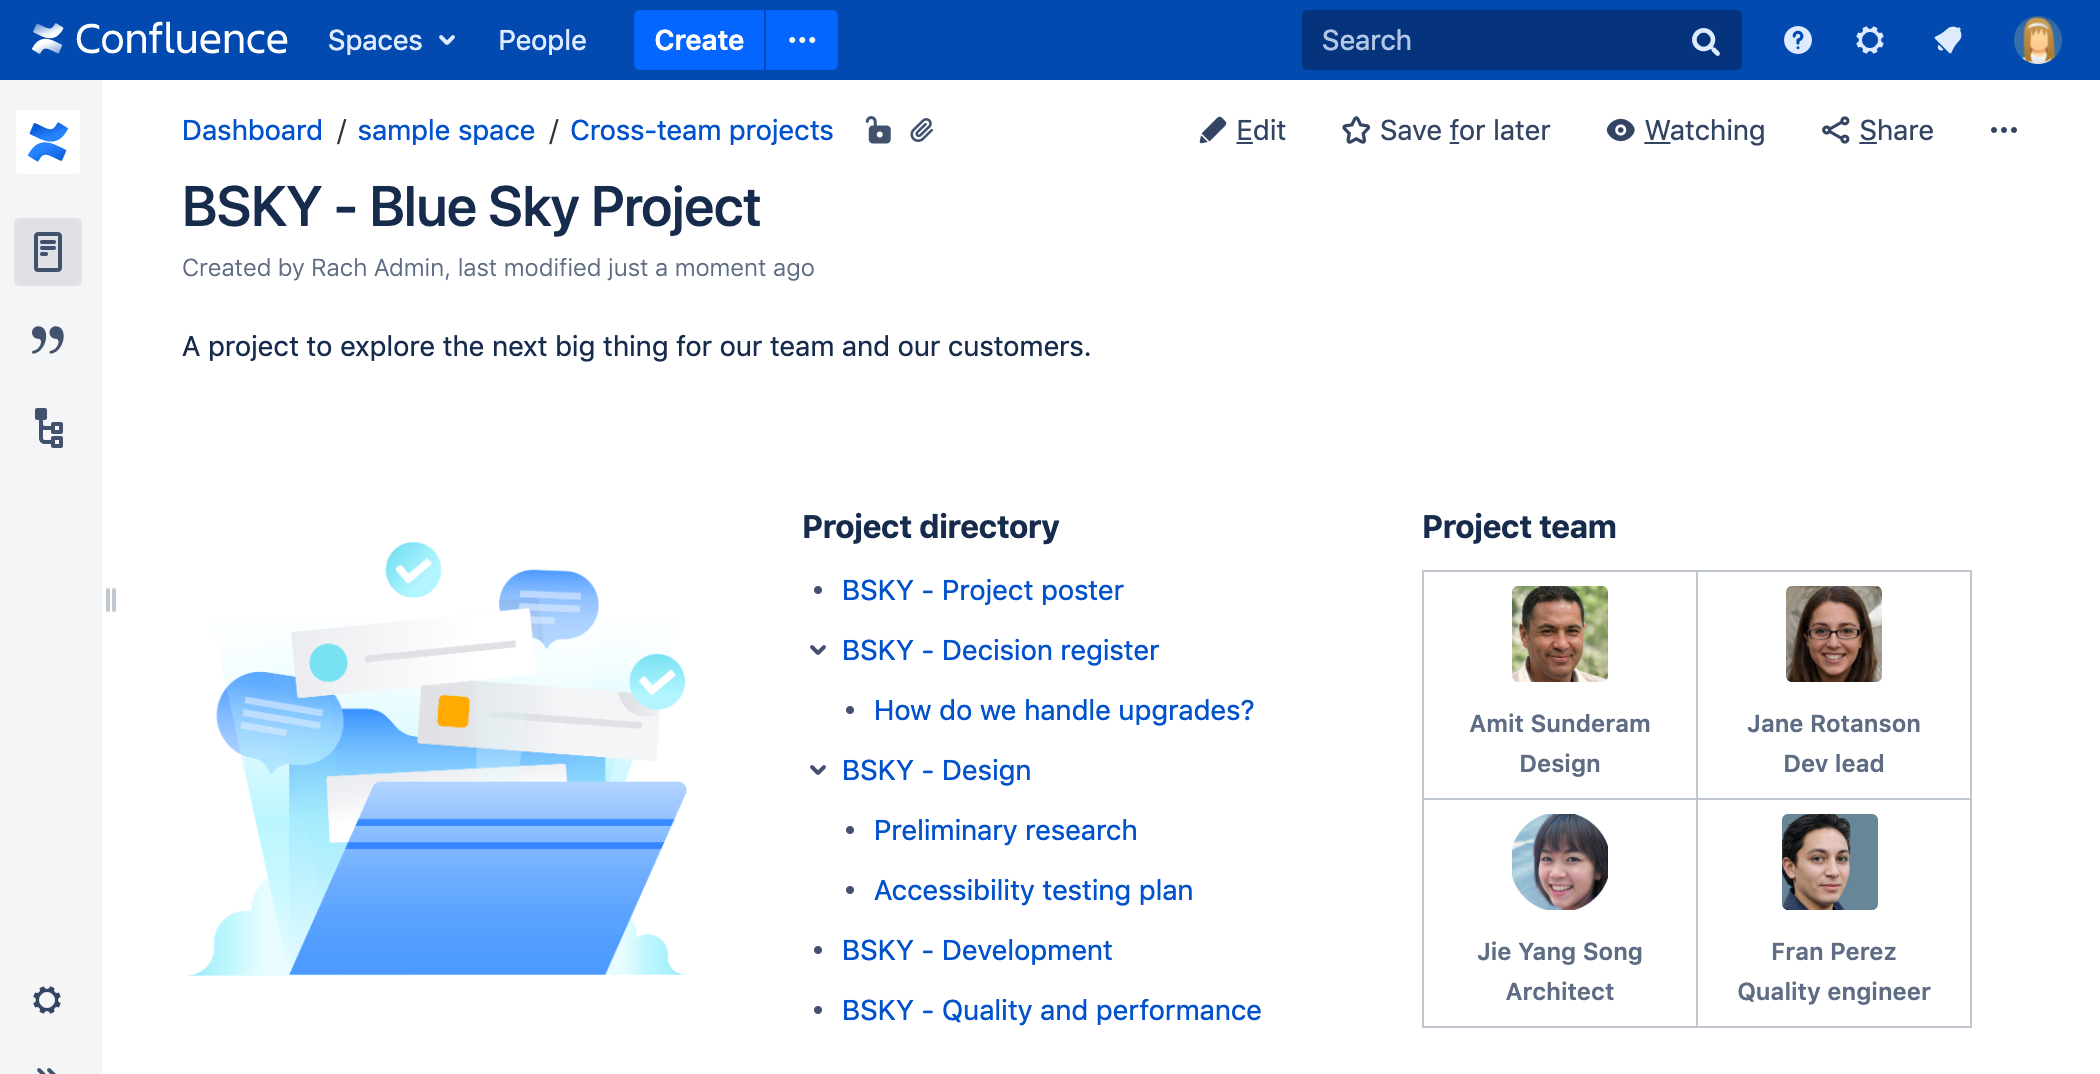button_create: (632, 5, 764, 71)
search_box: (1299, 10, 1752, 75)
